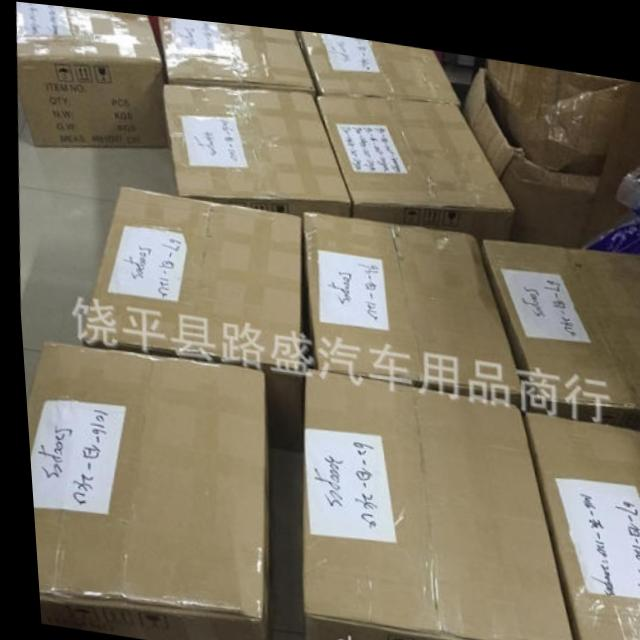box: (293, 364, 566, 640), (21, 341, 261, 640), (77, 185, 298, 450), (298, 208, 519, 394), (461, 56, 640, 235), (475, 229, 640, 416), (519, 398, 640, 640), (315, 86, 512, 230), (161, 81, 348, 210), (18, 1, 169, 148), (487, 49, 632, 159), (295, 24, 461, 94), (160, 13, 315, 87)
